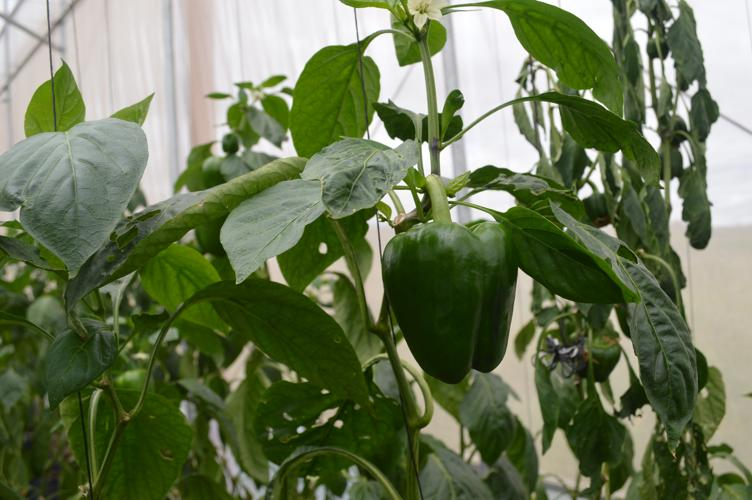BellPepper: (381, 216, 515, 376)
